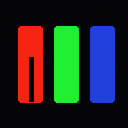4 line_v: (29, 57, 33, 101)
